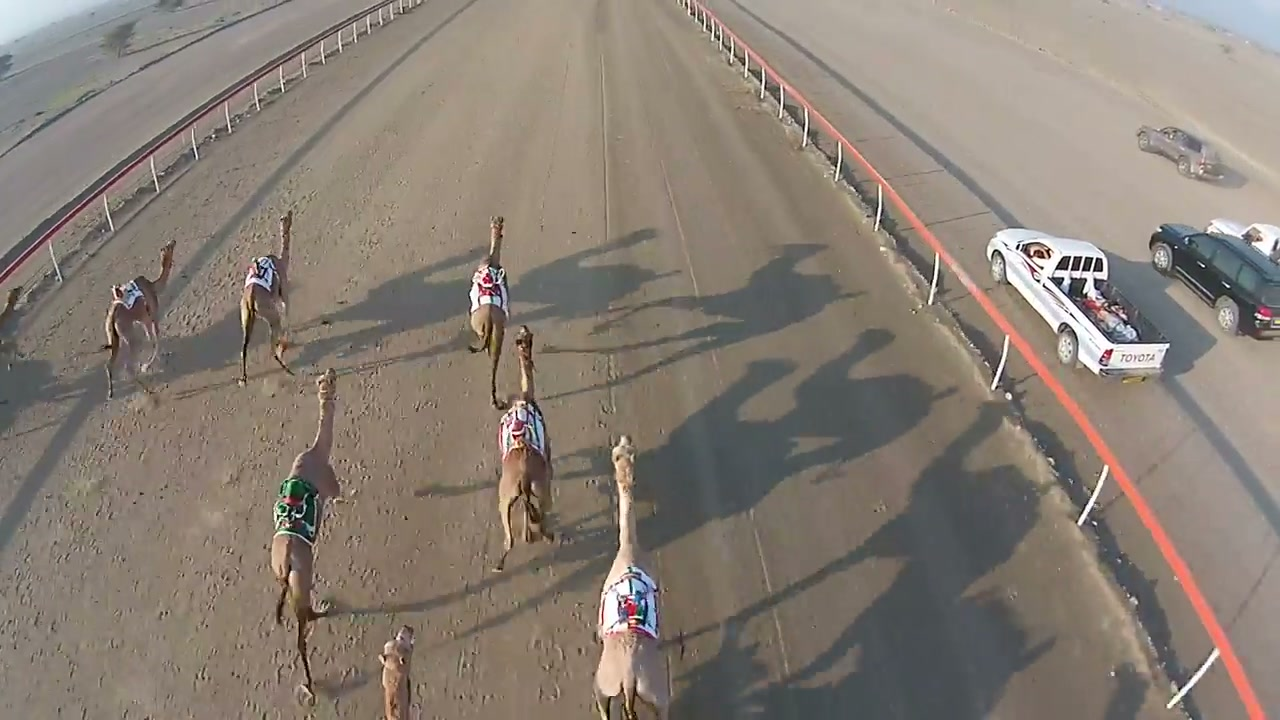animal_footprint: (257, 331, 413, 719), (180, 378, 302, 719), (28, 384, 137, 718), (497, 557, 604, 719)
